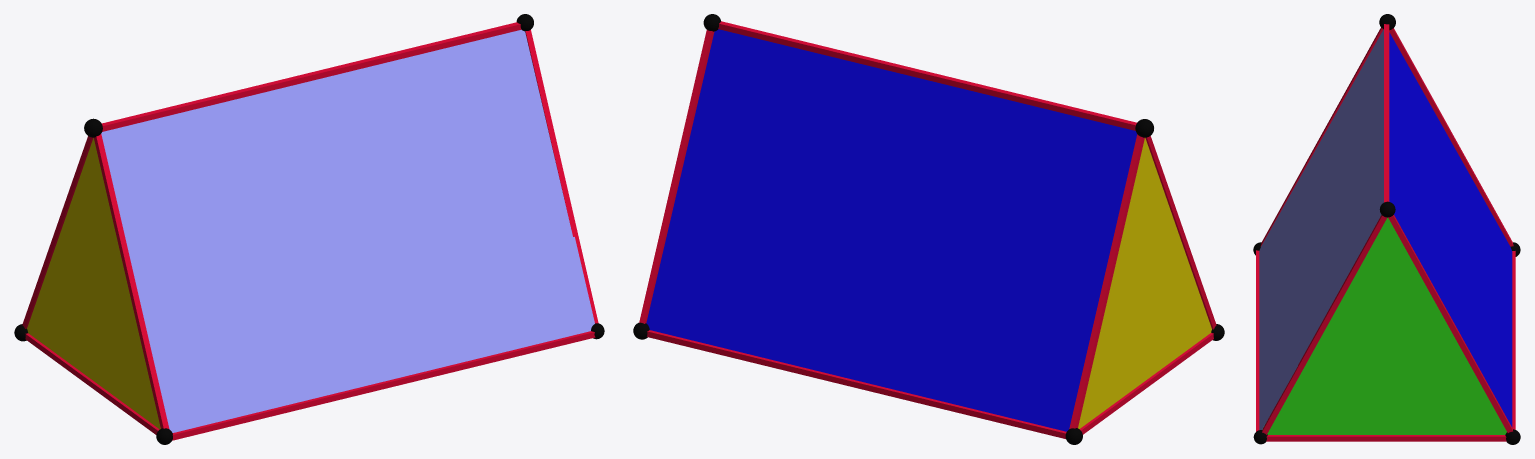
Rendered from prisma-segitiga.glb.
3 renders of one model, left to right at view 1: azimuth 30°, elevation 25°; view 2: azimuth 150°, elevation 25°; view 3: azimuth 270°, elevation 25°, orthographic. The views are drawn at different scales.
Visible parts, largest first — view 1: Plane.012, Plane.024, Plane.030, Plane.026, Plane.032, Plane.034, Plane.031, Plane.028; view 2: Plane.011, Plane.024, Plane.030, Plane.027, Plane.031, Plane.033, Plane.032, Plane.028; view 3: Plane.013, Plane.012, Plane.011, Plane.033, Plane.034, Plane.029, Plane.031, Plane.030, Plane.032, Plane.026, Plane.027.
Boxes of the visible parts, x1,y1,x2,y2 form: Plane.012: (101,29,594,432); Plane.024: (27,138,160,429); Plane.030: (101,22,521,131); Plane.026: (172,331,595,440); Plane.032: (94,134,169,428); Plane.034: (525,30,598,323); Plane.031: (22,136,93,328); Plane.028: (25,333,159,434); Plane.011: (646,29,1137,431); Plane.024: (1078,138,1211,428); Plane.030: (718,21,1136,130); Plane.027: (647,330,1066,438); Plane.031: (1069,134,1144,428); Plane.033: (639,30,714,323); Plane.032: (1145,136,1216,329); Plane.028: (1079,333,1213,434); Plane.013: (1267,217,1506,434); Plane.012: (1259,29,1383,429); Plane.011: (1389,32,1512,427); Plane.033: (1388,215,1512,432); Plane.034: (1262,215,1387,434); Plane.029: (1266,435,1506,441); Plane.031: (1389,28,1513,246); Plane.030: (1384,24,1389,202); Plane.032: (1260,28,1383,246); Plane.026: (1256,250,1259,431); Plane.027: (1512,251,1515,429).
Bounding box in the file's own units: 4.39 × 2.56 × 2.56.
